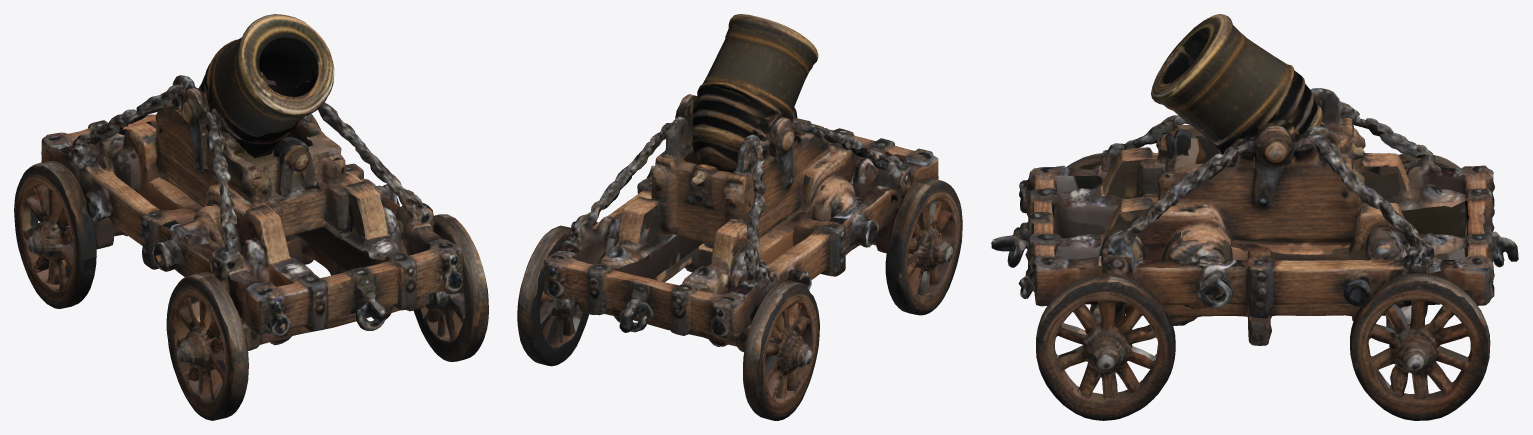
The model's file is Wagon_Mortar.fbx.
3 renders of one model, left to right at view 1: azimuth 30°, elevation 25°; view 2: azimuth 150°, elevation 25°; view 3: azimuth 270°, elevation 25°, orthographic. The views are drawn at different scales.
Parts seen in each view (by area): view 1: Mortar_Wagon; view 2: Mortar_Wagon; view 3: Mortar_Wagon.
Boxes of the visible parts, x1,y1,x2,y2 form: Mortar_Wagon: [14, 14, 488, 420]; Mortar_Wagon: [517, 14, 962, 420]; Mortar_Wagon: [991, 14, 1518, 420].
Size of the model in its own units: 213 by 226 by 320.
Materials: 1 (1 with a texture image).
